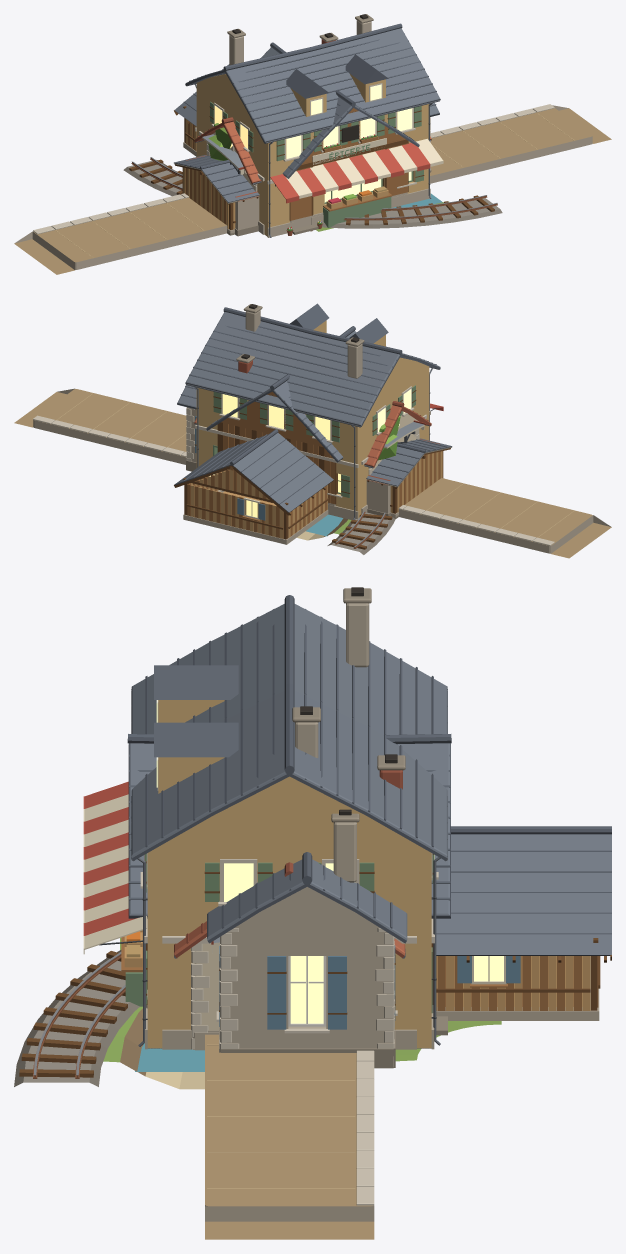
The model's file is bourg.glb.
3 views of the same model, one above another, from view 1: azimuth 30°, elevation 25°; view 2: azimuth 150°, elevation 25°; view 3: azimuth 270°, elevation 25° (orthographic). The views are drawn at different scales.
Parts seen in each view (by area): view 1: platform_base, ferrand_shop_roof, ferrand_shop_wall_front, ferrand_shop_upper, rail_curve_90, sawmill_body, gatekeeper_cellar_roof, sawmill_roof, school_yard, gatekeeper_cellar_wall_left, station_roof, ferrand_shop_wall_left (+2 smaller); view 2: ferrand_shop_roof, platform_base, ferrand_shop_upper, gatekeeper_bedroom_roof, gatekeeper_bedroom_wall_back, sawmill_body, ferrand_shop_wall_back, gatekeeper_cellar_roof, rail_curve_90, sawmill_roof, gatekeeper_cellar_wall_left, school_yard (+10 smaller); view 3: ferrand_shop_roof, platform_base, school_body, ferrand_shop_upper, gatekeeper_bedroom_roof, ferrand_shop_wall_front, rail_curve_90, gatekeeper_bedroom_wall_right, school_roof, sawmill_roof, ferrand_shop_wall_right, river_curve_banks (+4 smaller).
Part boxes in pixels (bbox=[...]): platform_base: bbox=[14, 104, 611, 274]; ferrand_shop_roof: bbox=[185, 14, 440, 144]; ferrand_shop_wall_front: bbox=[264, 138, 443, 237]; ferrand_shop_upper: bbox=[196, 74, 430, 181]; rail_curve_90: bbox=[123, 157, 502, 228]; sawmill_body: bbox=[289, 108, 408, 228]; gatekeeper_cellar_roof: bbox=[174, 155, 259, 202]; sawmill_roof: bbox=[260, 42, 419, 178]; school_yard: bbox=[186, 123, 259, 236]; gatekeeper_cellar_wall_left: bbox=[183, 167, 228, 229]; station_roof: bbox=[194, 117, 431, 184]; ferrand_shop_wall_left: bbox=[199, 131, 264, 234]; ferrand_shop_roof: bbox=[185, 303, 440, 427]; platform_base: bbox=[14, 388, 611, 558]; ferrand_shop_upper: bbox=[196, 357, 430, 464]; gatekeeper_bedroom_roof: bbox=[174, 429, 333, 515]; gatekeeper_bedroom_wall_back: bbox=[186, 484, 283, 538]; sawmill_body: bbox=[217, 391, 337, 505]; ferrand_shop_wall_back: bbox=[195, 425, 361, 519]; gatekeeper_cellar_roof: bbox=[366, 438, 452, 486]; rail_curve_90: bbox=[327, 511, 395, 554]; sawmill_roof: bbox=[206, 326, 356, 462]; gatekeeper_cellar_wall_left: bbox=[397, 451, 442, 512]; school_yard: bbox=[366, 415, 440, 516]; ferrand_shop_roof: bbox=[131, 587, 447, 863]; platform_base: bbox=[205, 1034, 374, 1239]; school_body: bbox=[216, 887, 397, 1068]; ferrand_shop_upper: bbox=[140, 776, 438, 937]; gatekeeper_bedroom_roof: bbox=[436, 826, 611, 960]; ferrand_shop_wall_front: bbox=[83, 781, 162, 1049]; rail_curve_90: bbox=[14, 950, 139, 1086]; gatekeeper_bedroom_wall_right: bbox=[436, 956, 590, 1010]; school_roof: bbox=[207, 809, 407, 943]; sawmill_roof: bbox=[127, 734, 451, 918]; ferrand_shop_wall_right: bbox=[162, 936, 416, 1049]; river_curve_banks: bbox=[103, 1007, 501, 1089].
Size of the model in its own units: 30 by 9.72 by 14.1.
Materials: 1 (1 with a texture image).
